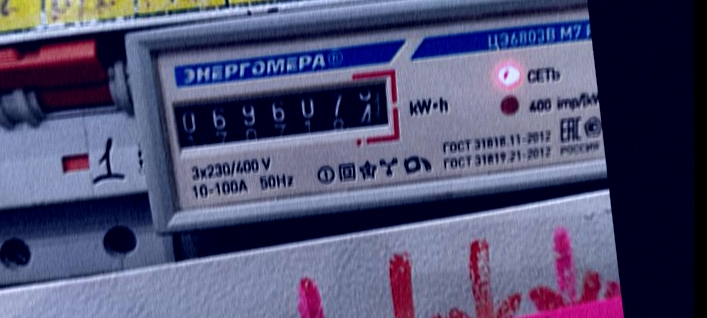0: (177, 108, 196, 134), (296, 93, 313, 119)
4: (354, 101, 373, 126)
6: (266, 97, 286, 123), (206, 105, 226, 130)
7: (326, 91, 344, 119)
9: (236, 101, 255, 127)
screen: (155, 63, 404, 164)
